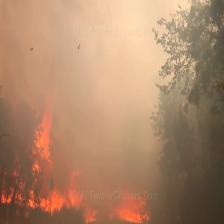fire: (0, 95, 156, 224)
